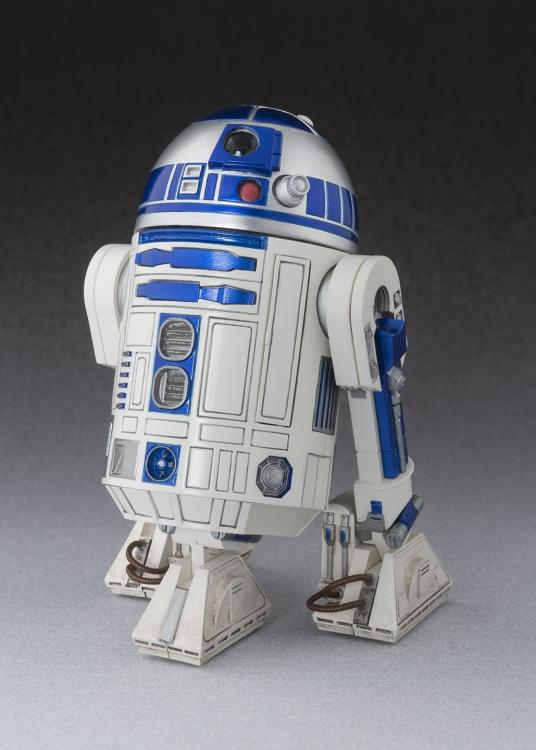r2d2: (82, 103, 452, 666)
